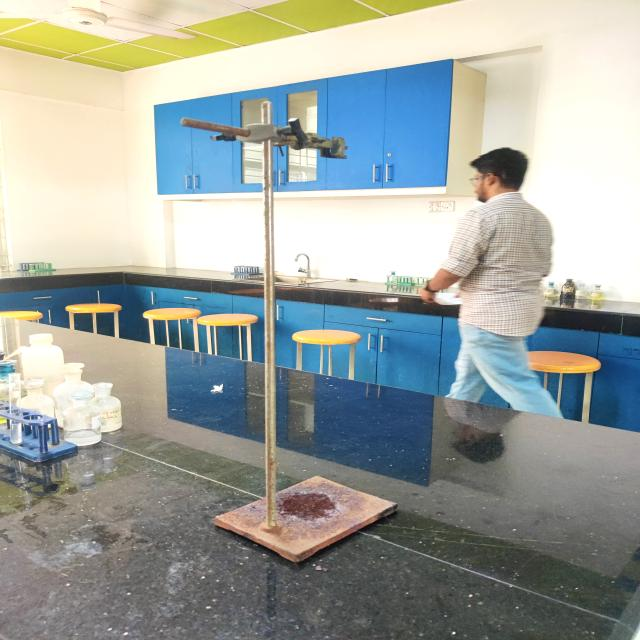Burette_Stands: (149, 98, 416, 586)
